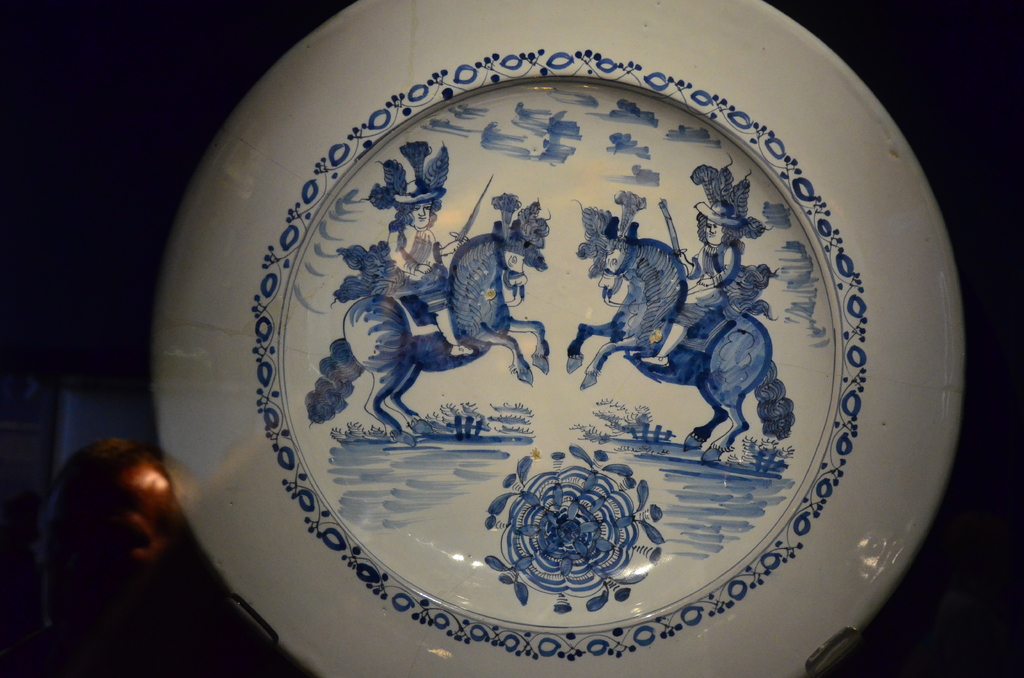plate: (153, 0, 968, 677)
